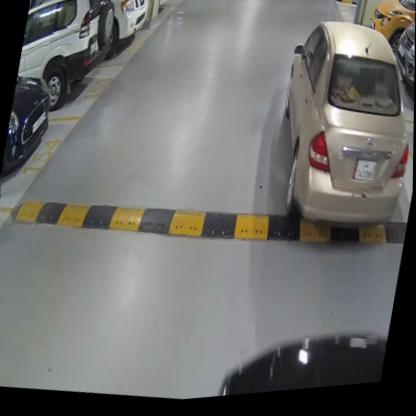np: (353, 163, 378, 191)
